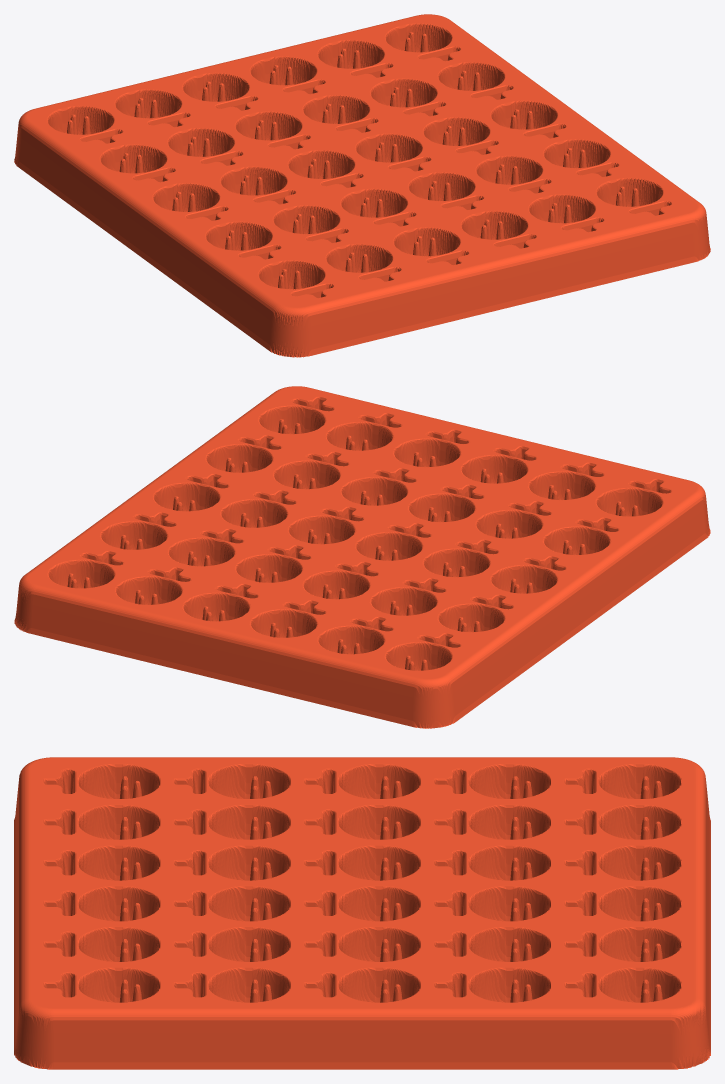
File: mold.glb
The picture shows the model from 3 angles, top to bottom: view 1: azimuth 30°, elevation 25°; view 2: azimuth 150°, elevation 25°; view 3: azimuth 270°, elevation 25°; orthographic projection. The views are drawn at different scales.
Visible parts, largest first — view 1: geometry_0; view 2: geometry_0; view 3: geometry_0.
Part boxes in pixels (x1,y1,x2,y2): geometry_0: [14, 14, 710, 357]; geometry_0: [14, 386, 710, 728]; geometry_0: [14, 757, 710, 1069].
Size of the model in its own units: 0.1415 by 0.0136 by 0.1581.
